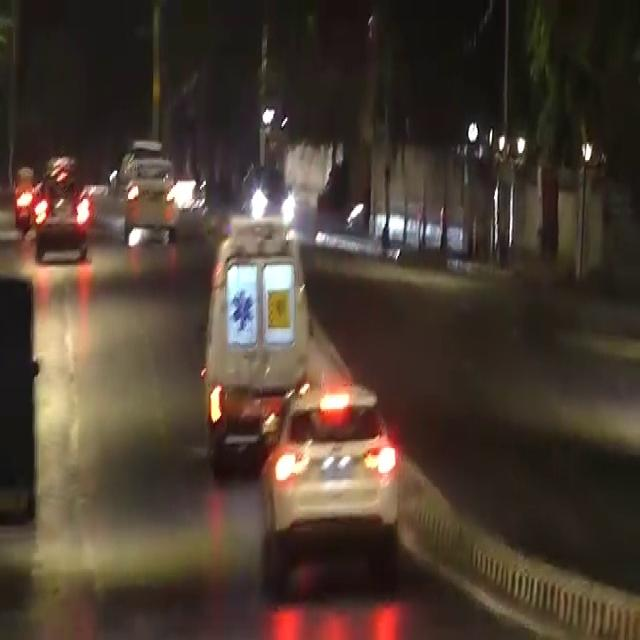ambulance: (210, 200, 299, 455)
